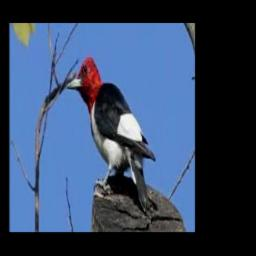Woodpecker: (66, 56, 155, 212)
